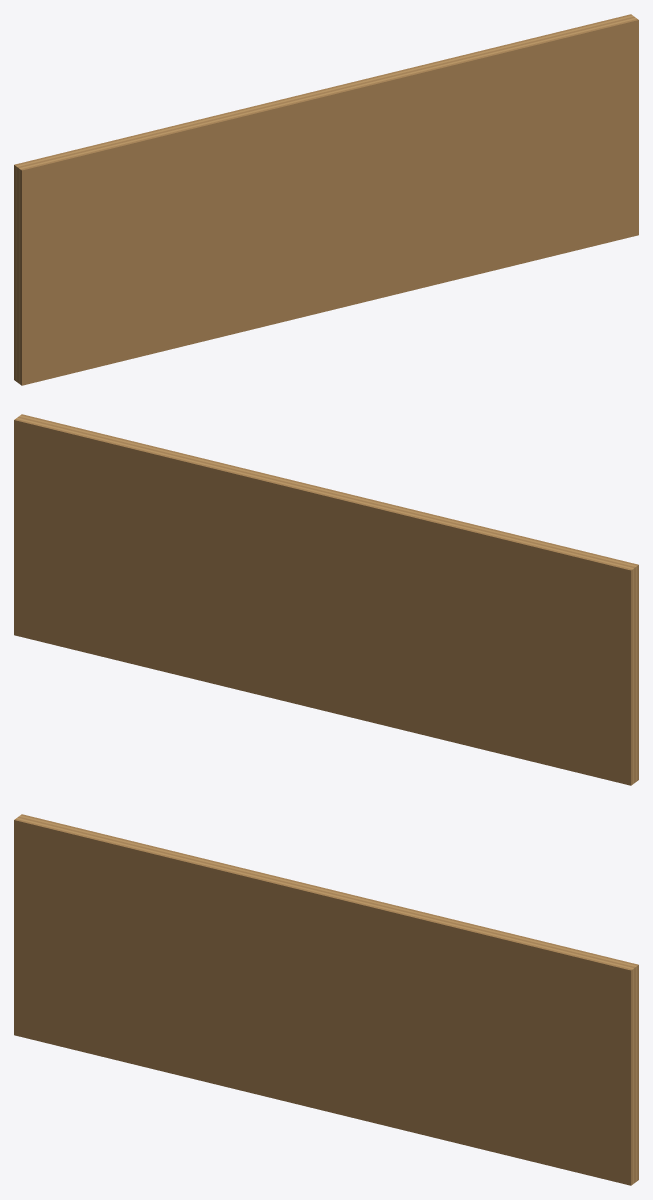
File: structure.assembly.clt_wall_long.glb
3 views of the same model, one above another, from view 1: azimuth 30°, elevation 25°; view 2: azimuth 150°, elevation 25°; view 3: azimuth 330°, elevation 25° (orthographic).
Parts seen in each view (by area): view 1: main__softwood, main__glulam; view 2: main__softwood, main__glulam; view 3: main__softwood, main__glulam.
Part boxes in pixels (left/top/right/bottom): main__softwood: left=14, top=14, right=638, bottom=385; main__glulam: left=15, top=15, right=636, bottom=384; main__softwood: left=14, top=414, right=638, bottom=785; main__glulam: left=16, top=415, right=637, bottom=784; main__softwood: left=14, top=814, right=638, bottom=1185; main__glulam: left=16, top=815, right=637, bottom=1184.
Size of the model in its own units: 9 by 3 by 0.2.
